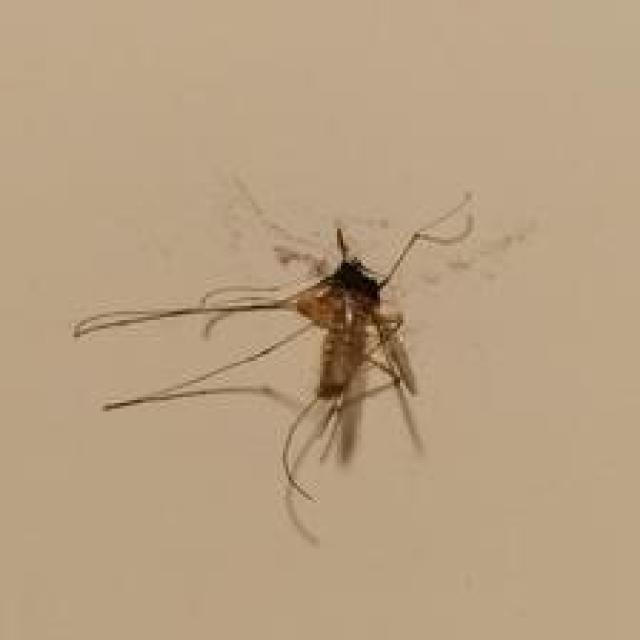Culex: (71, 171, 480, 546)
